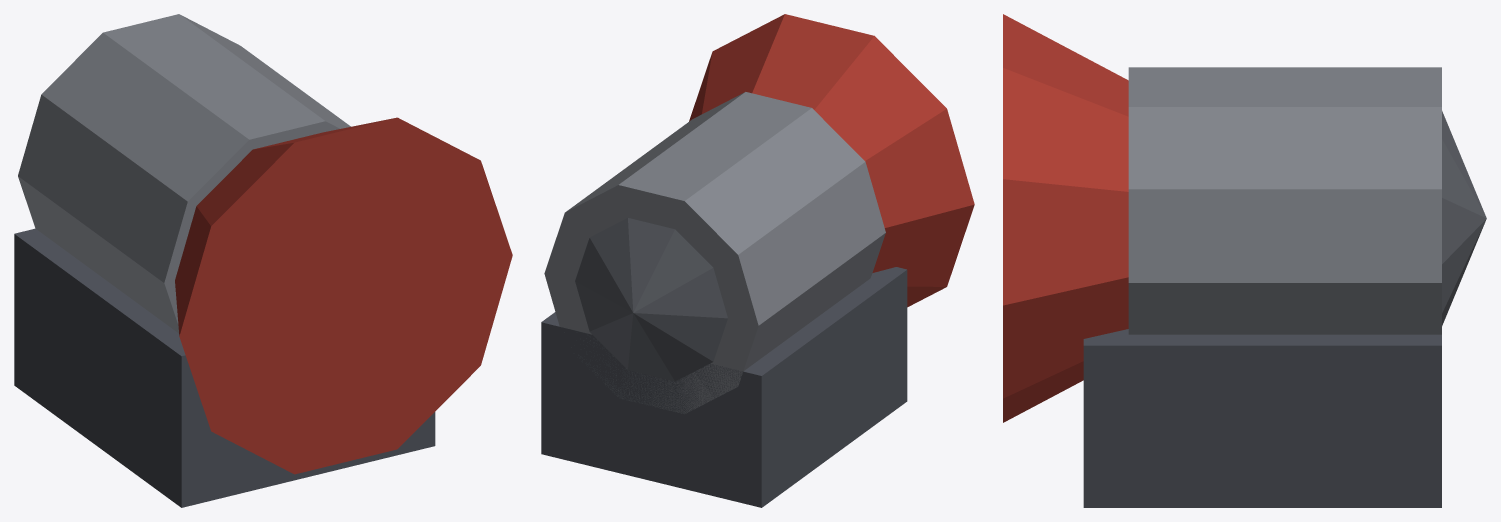
Rendered from thruster.glb.
3 views of the same model, side by side, from view 1: azimuth 30°, elevation 25°; view 2: azimuth 150°, elevation 25°; view 3: azimuth 270°, elevation 25° (orthographic). The views are drawn at different scales.
Parts seen in each view (by area): view 1: thruster; view 2: thruster; view 3: thruster.
Boxes of the visible parts, x1,y1,x2,y2 form: thruster: [14, 14, 512, 507]; thruster: [541, 14, 974, 507]; thruster: [1003, 14, 1486, 507].
Size of the model in its own units: 0.92 by 0.9875 by 1.08.
